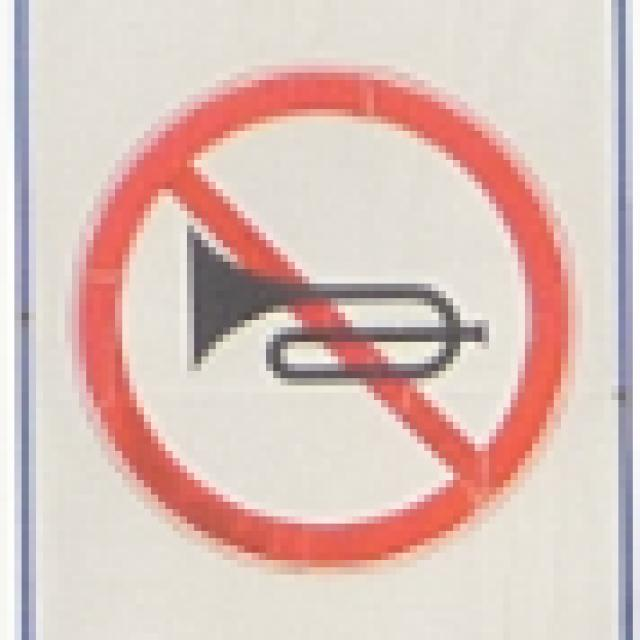No Horn: (69, 58, 574, 566)
